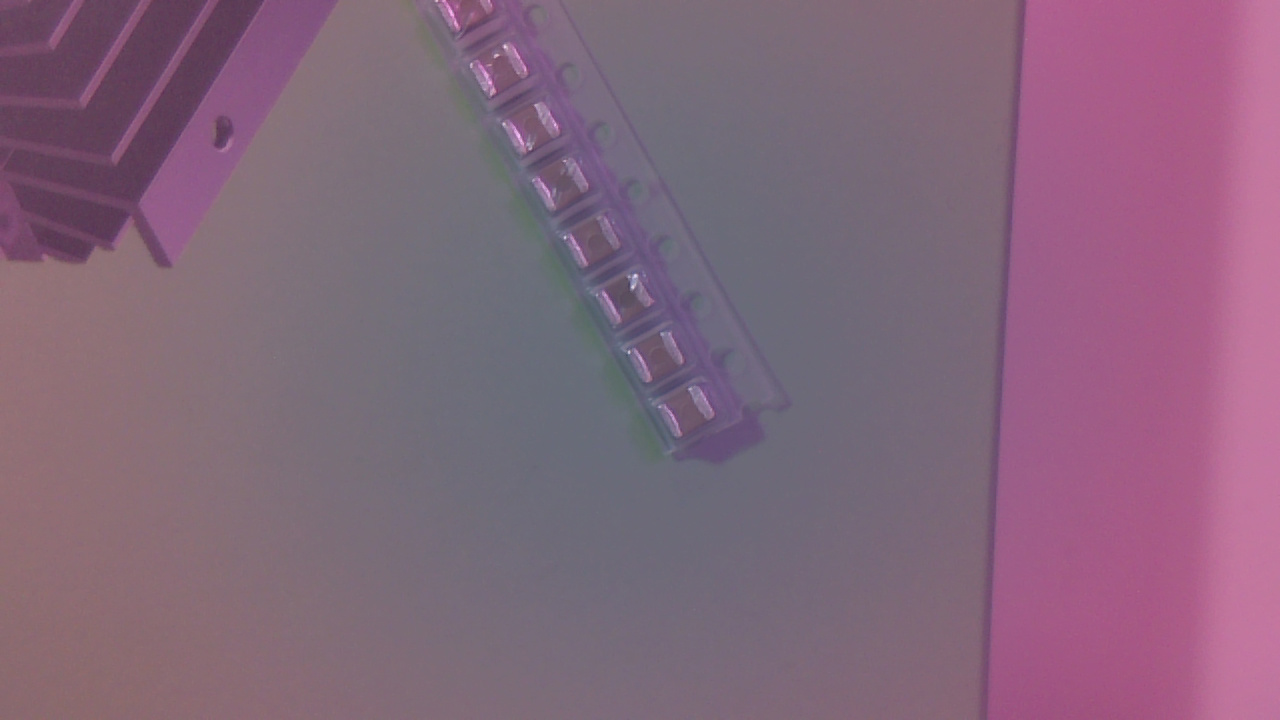Condensator: (476, 42, 538, 102), (534, 160, 595, 216), (563, 220, 628, 272), (509, 103, 571, 157), (635, 332, 690, 387), (604, 275, 660, 328), (662, 389, 719, 441), (442, 5, 506, 37)
